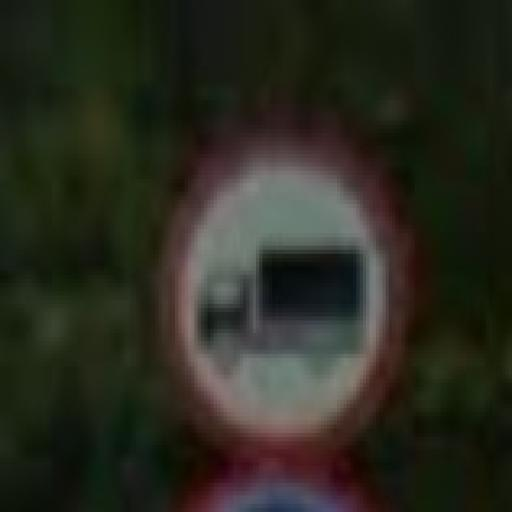traffic_sign: (160, 130, 409, 467)
